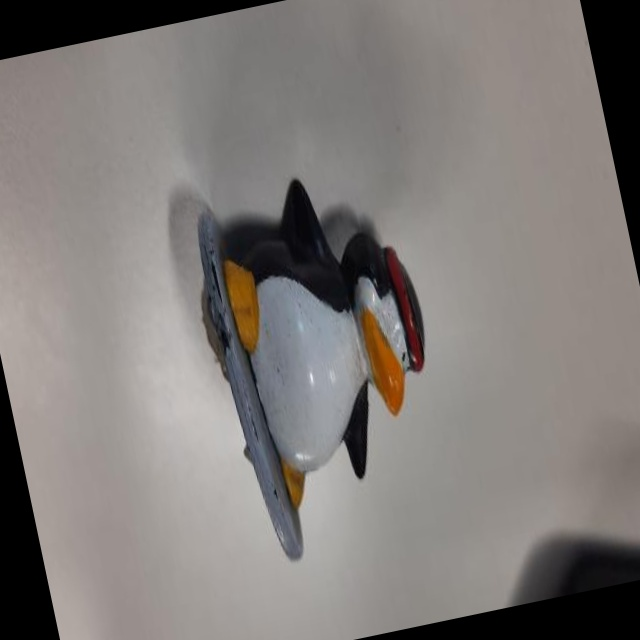Penguin: (168, 148, 478, 586)
